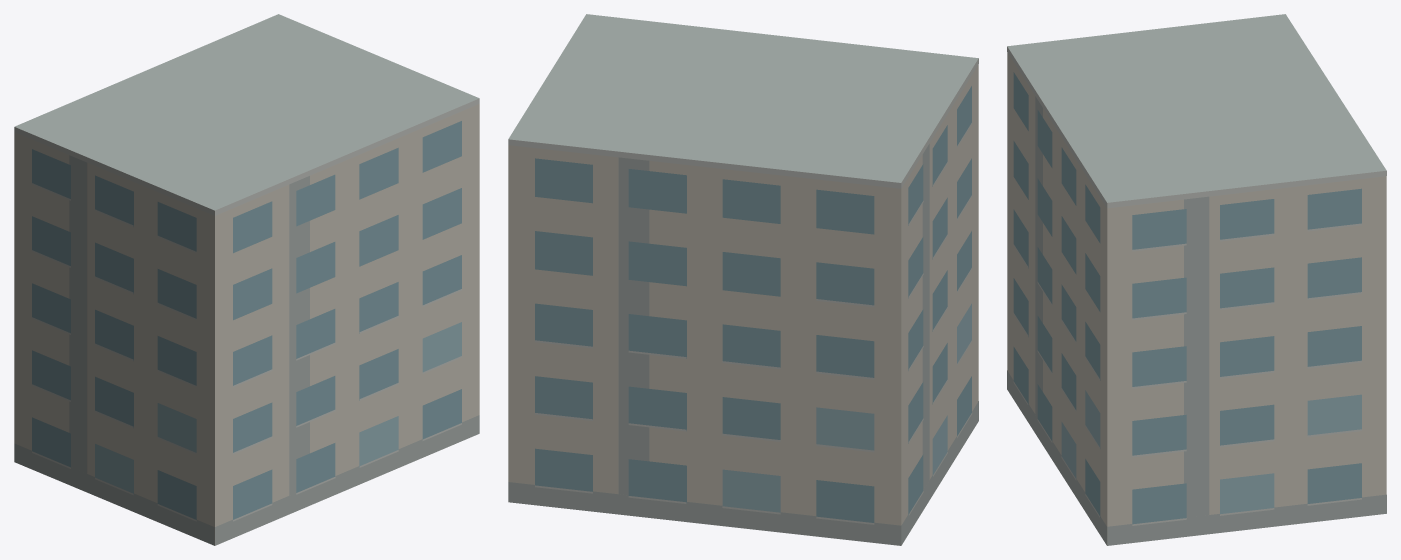
The model's file is residential-4a9e777d-70e1-4b3a-a96d-66ce631d2301.glb.
The picture shows the model from 3 angles, left to right: view 1: azimuth 30°, elevation 25°; view 2: azimuth 150°, elevation 25°; view 3: azimuth 270°, elevation 25°; orthographic projection. The views are drawn at different scales.
Visible parts, largest first — view 1: residential-4a9e777d-70e1-4b3a-a96d-66ce631d2301.tmp; view 2: residential-4a9e777d-70e1-4b3a-a96d-66ce631d2301.tmp; view 3: residential-4a9e777d-70e1-4b3a-a96d-66ce631d2301.tmp.
Part boxes in pixels (<box>): residential-4a9e777d-70e1-4b3a-a96d-66ce631d2301.tmp: <box>14,14,479,545</box>; residential-4a9e777d-70e1-4b3a-a96d-66ce631d2301.tmp: <box>508,14,978,545</box>; residential-4a9e777d-70e1-4b3a-a96d-66ce631d2301.tmp: <box>1007,14,1386,545</box>.
Size of the model in its own units: 18.01 by 15.25 by 15.31.
